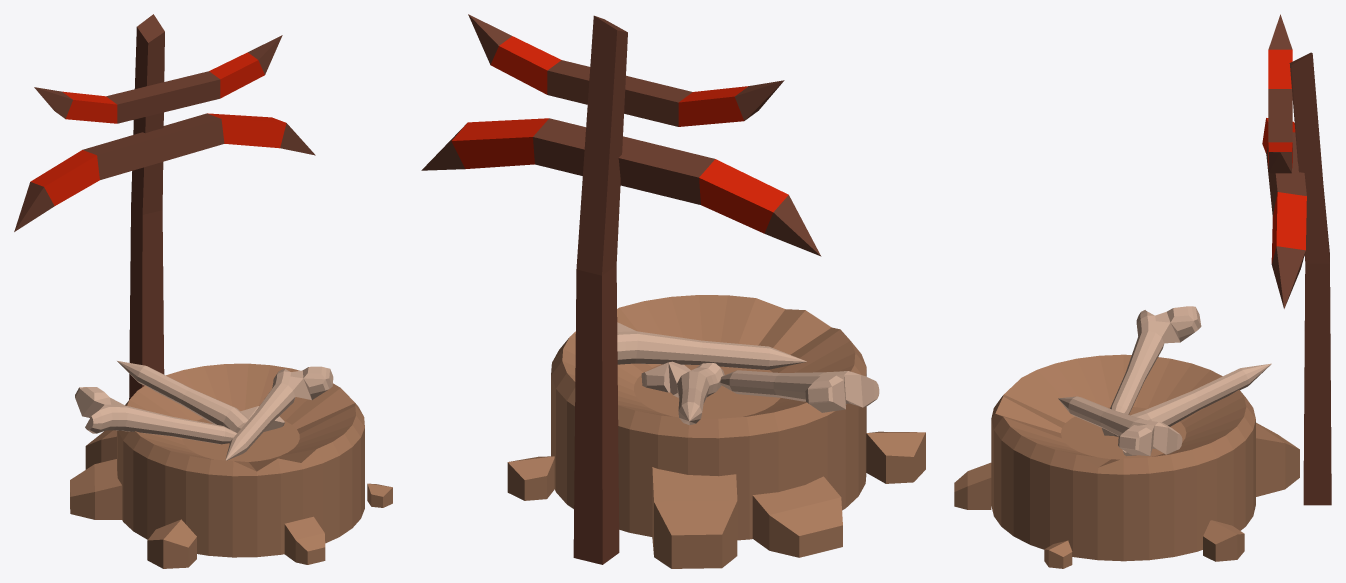
Rendered from red_bone_altar.fbx.
3 views of the same model, side by side, from view 1: azimuth 30°, elevation 25°; view 2: azimuth 150°, elevation 25°; view 3: azimuth 270°, elevation 25° (orthographic). The views are drawn at different scales.
Visible parts, largest first — view 1: Cylinder; view 2: Cylinder; view 3: Cylinder.
Boxes of the visible parts, box(x1,y1,x2,y2) form: Cylinder: box(14, 14, 392, 568); Cylinder: box(421, 14, 925, 568); Cylinder: box(954, 14, 1331, 568).
Size of the model in its own units: 611 by 809 by 609.
